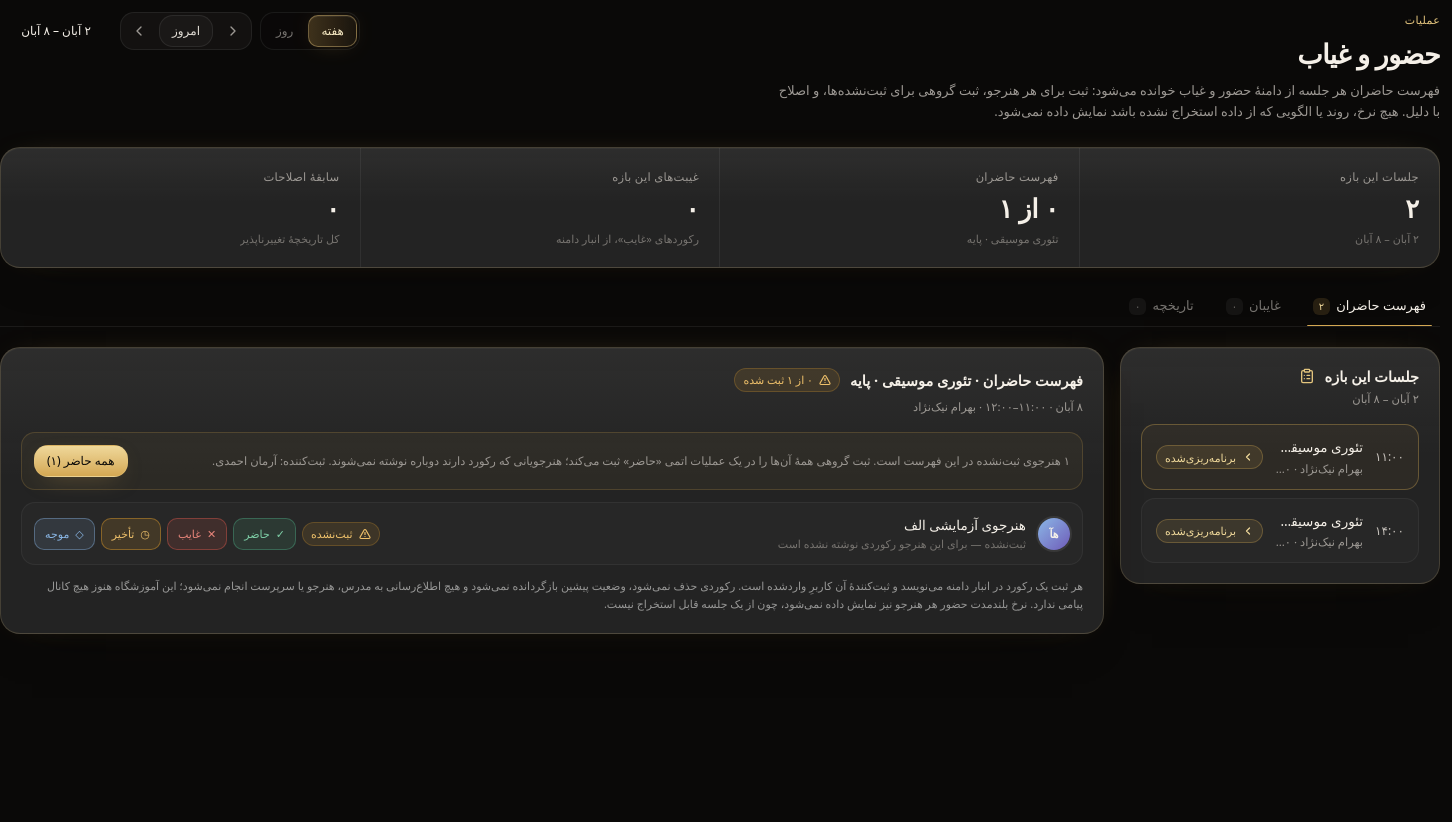
the register read › does not render a register that answers for another session
Step 1. Click the button "۱۴:۰۰" → (1280, 531), box [1141,498,1419,563]
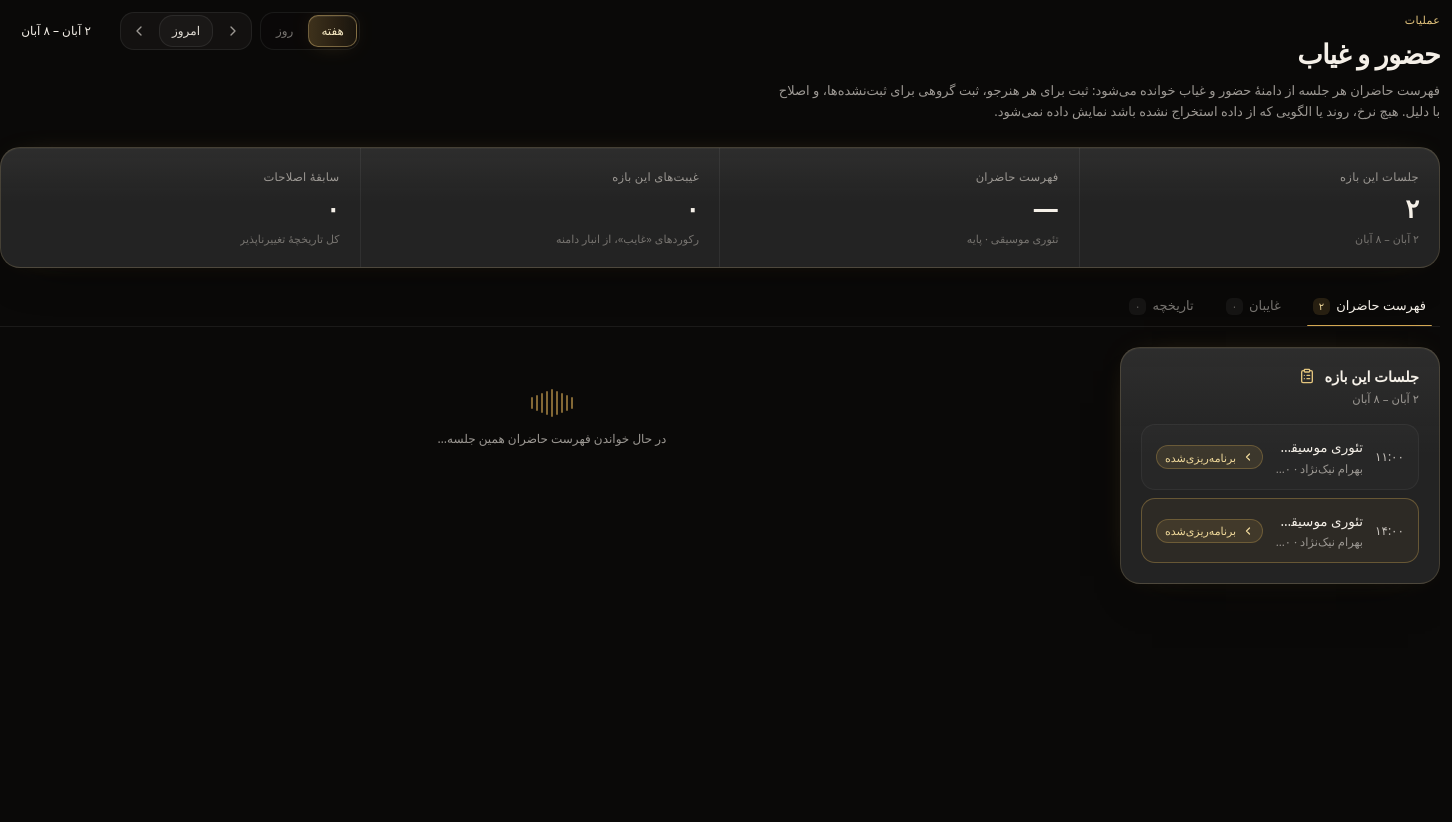
Expected: the button "همه حاضر" is gone
Expected: the text "در حال خواندن فهرست حاضران همین جلسه…" is shown, [438,431,666,447]
